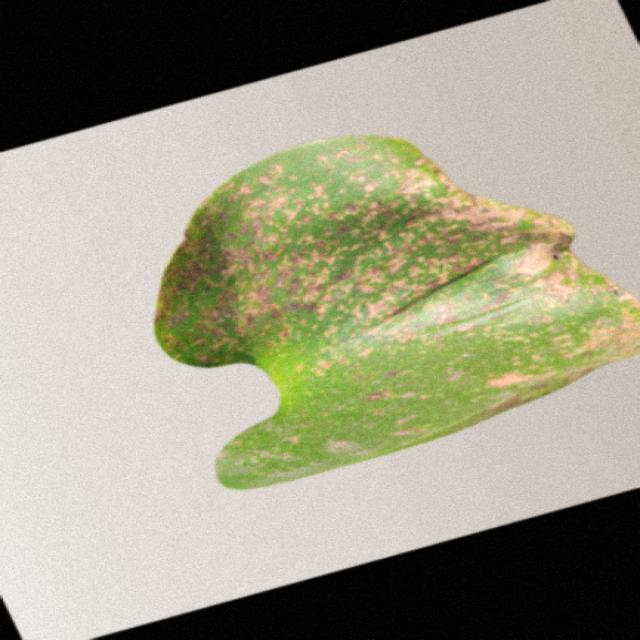daun berpenyakit bercak: (155, 136, 638, 489)
